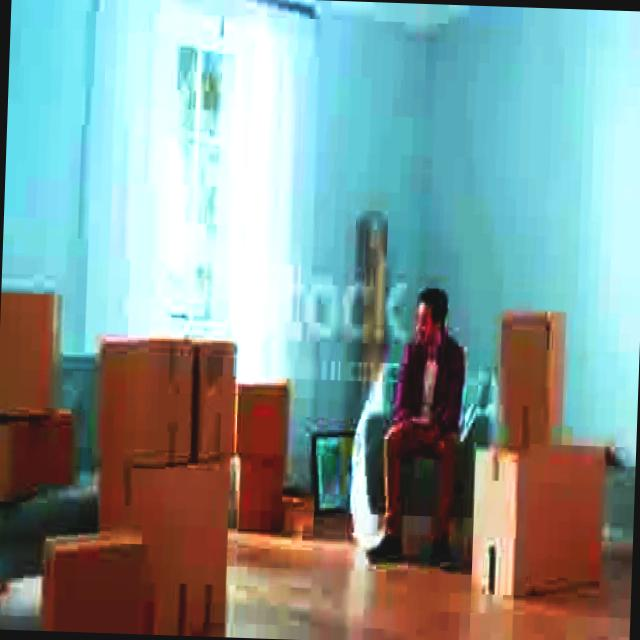Box: (468, 436, 612, 590), (147, 460, 234, 630), (99, 342, 184, 456), (46, 530, 140, 622), (502, 318, 566, 441), (0, 288, 55, 420), (2, 427, 76, 498), (188, 350, 236, 458)
